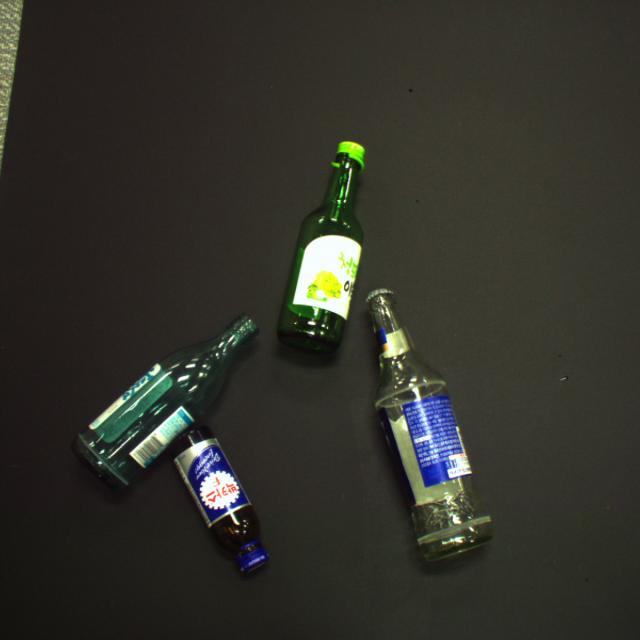beer-bottle: (367, 289, 491, 559)
soju-bottle: (76, 315, 258, 485), (277, 142, 364, 350)
